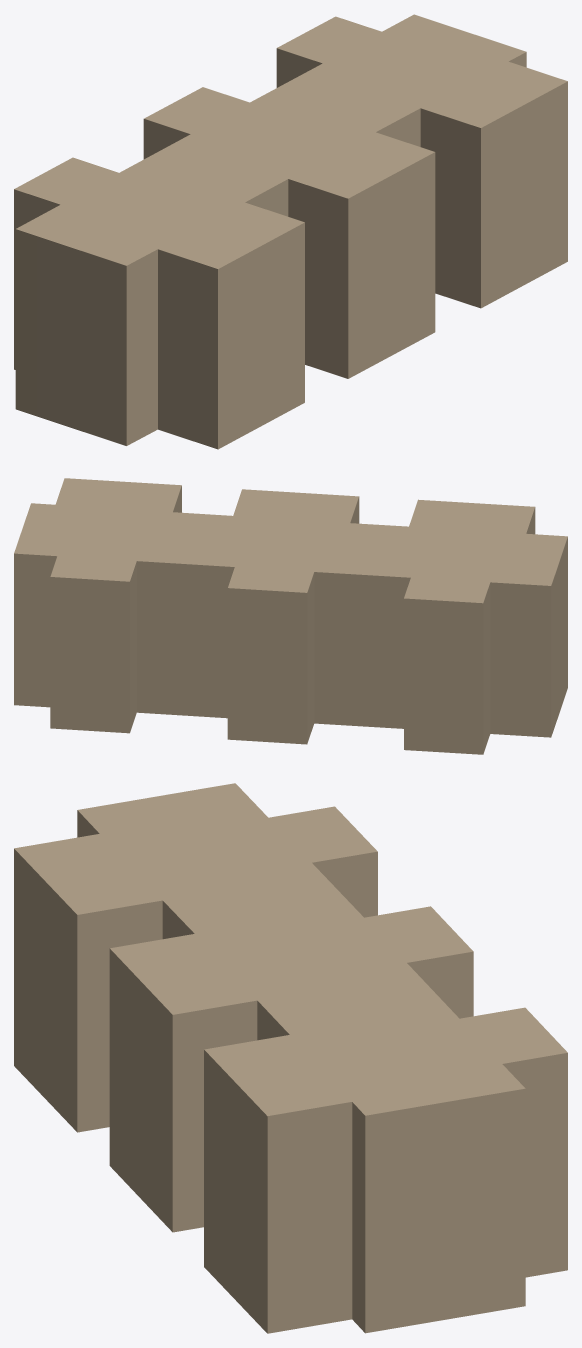
The model's file is bld_106306827.dae.
The picture shows the model from 3 angles, top to bottom: view 1: azimuth 30°, elevation 25°; view 2: azimuth 150°, elevation 25°; view 3: azimuth 270°, elevation 25°; orthographic projection. The views are drawn at different scales.
Parts seen in each view (by area): view 1: bld_106306827; view 2: bld_106306827; view 3: bld_106306827.
Boxes of the visible parts, x1,y1,x2,y2 form: bld_106306827: [14, 14, 567, 449]; bld_106306827: [14, 478, 567, 754]; bld_106306827: [14, 783, 567, 1333].
Size of the model in its own units: 26.26 by 18.46 by 8.
